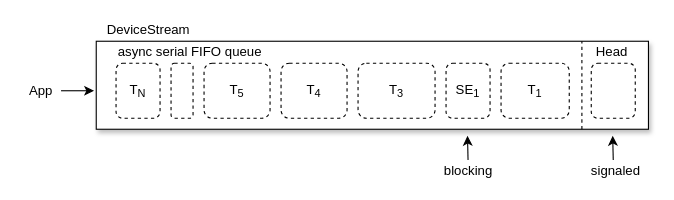
The diagram is 674 pixels wide and 200 high, and some of its shapes have lost their labels. Each missing label, with the centre of its shape:
"SE 0" belongs at point (612, 90).
"T 6" belongs at point (181, 90).
